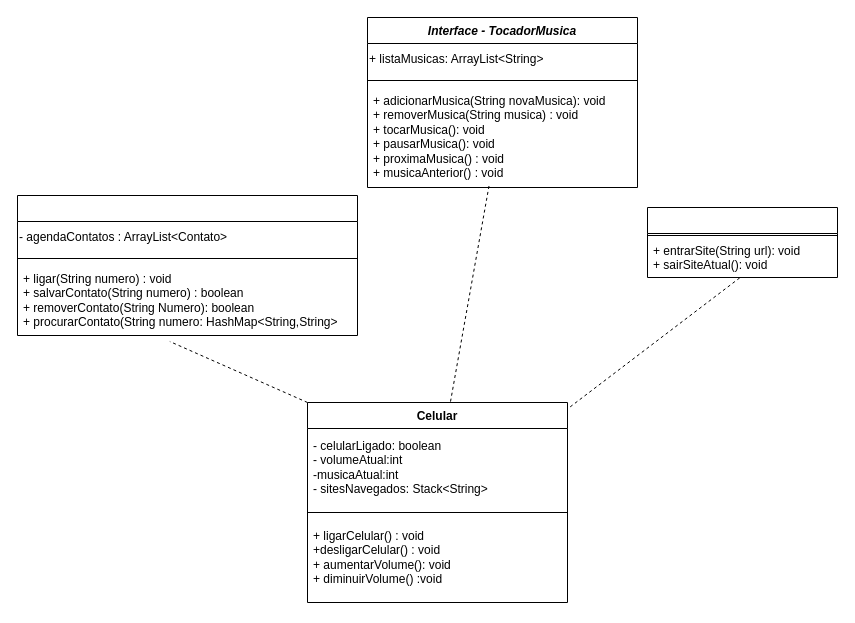
This 855x623 diagram has some shape labels left out. Here are the shapes that lost their labels. From the top down, the box of each, then its label:
(646, 206, 838, 278): Interface - NavegadorInternet
(16, 194, 358, 336): Interface - Telefone
